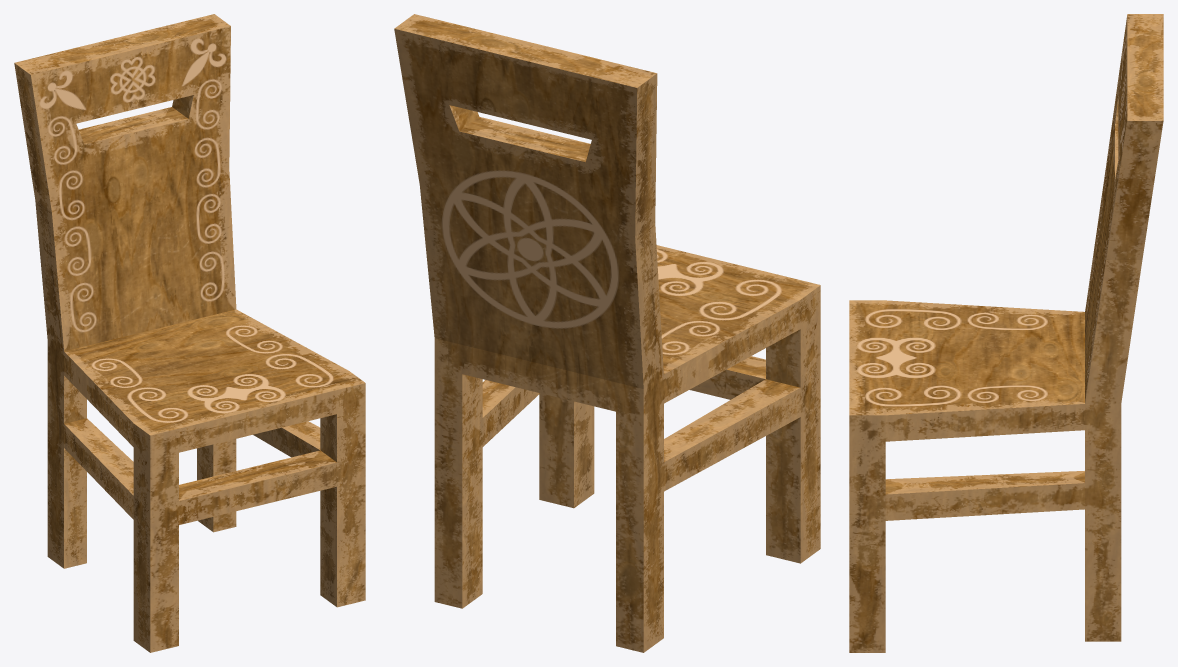
File: chair.glb
The picture shows the model from 3 angles, left to right: view 1: azimuth 30°, elevation 25°; view 2: azimuth 150°, elevation 25°; view 3: azimuth 270°, elevation 25°; orthographic projection. The views are drawn at different scales.
Parts seen in each view (by area): view 1: chair; view 2: chair; view 3: chair.
Boxes of the visible parts, left/top/right/bottom form: chair: left=14, top=14, right=365, bottom=652; chair: left=394, top=14, right=820, bottom=652; chair: left=849, top=14, right=1163, bottom=652.
Bounding box in the file's own units: 0.405 × 0.8679 × 0.468.
1 material, 1 textured.
